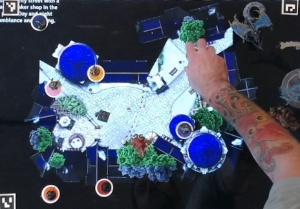blue: (29, 12, 50, 32)
orange: (39, 182, 63, 204)
pink: (43, 77, 64, 96)
red: (93, 177, 116, 199)
violet: (176, 120, 193, 138)
yellow: (84, 61, 107, 83)
